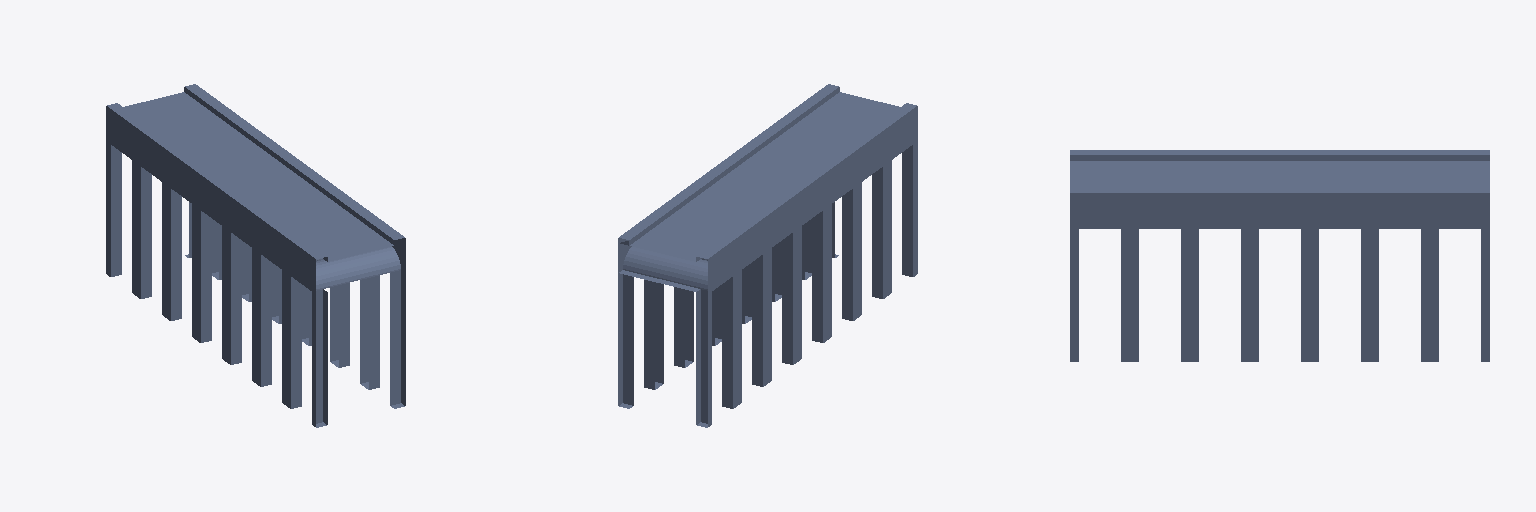
File: bridge.obj
The picture shows the model from 3 angles: view 1: azimuth 30°, elevation 25°; view 2: azimuth 150°, elevation 25°; view 3: azimuth 270°, elevation 25°; orthographic projection.
Visible parts, largest first — view 1: bridge_segment_slim.001_Cube.004; view 2: bridge_segment_slim.001_Cube.004; view 3: bridge_segment_slim.001_Cube.004.
Boxes of the visible parts, box(x1,y1,x2,y2) form: bridge_segment_slim.001_Cube.004: box(106, 84, 405, 427); bridge_segment_slim.001_Cube.004: box(618, 84, 917, 427); bridge_segment_slim.001_Cube.004: box(1070, 150, 1489, 361).
Bounding box in the file's own units: 1.72 × 3.1 × 7.